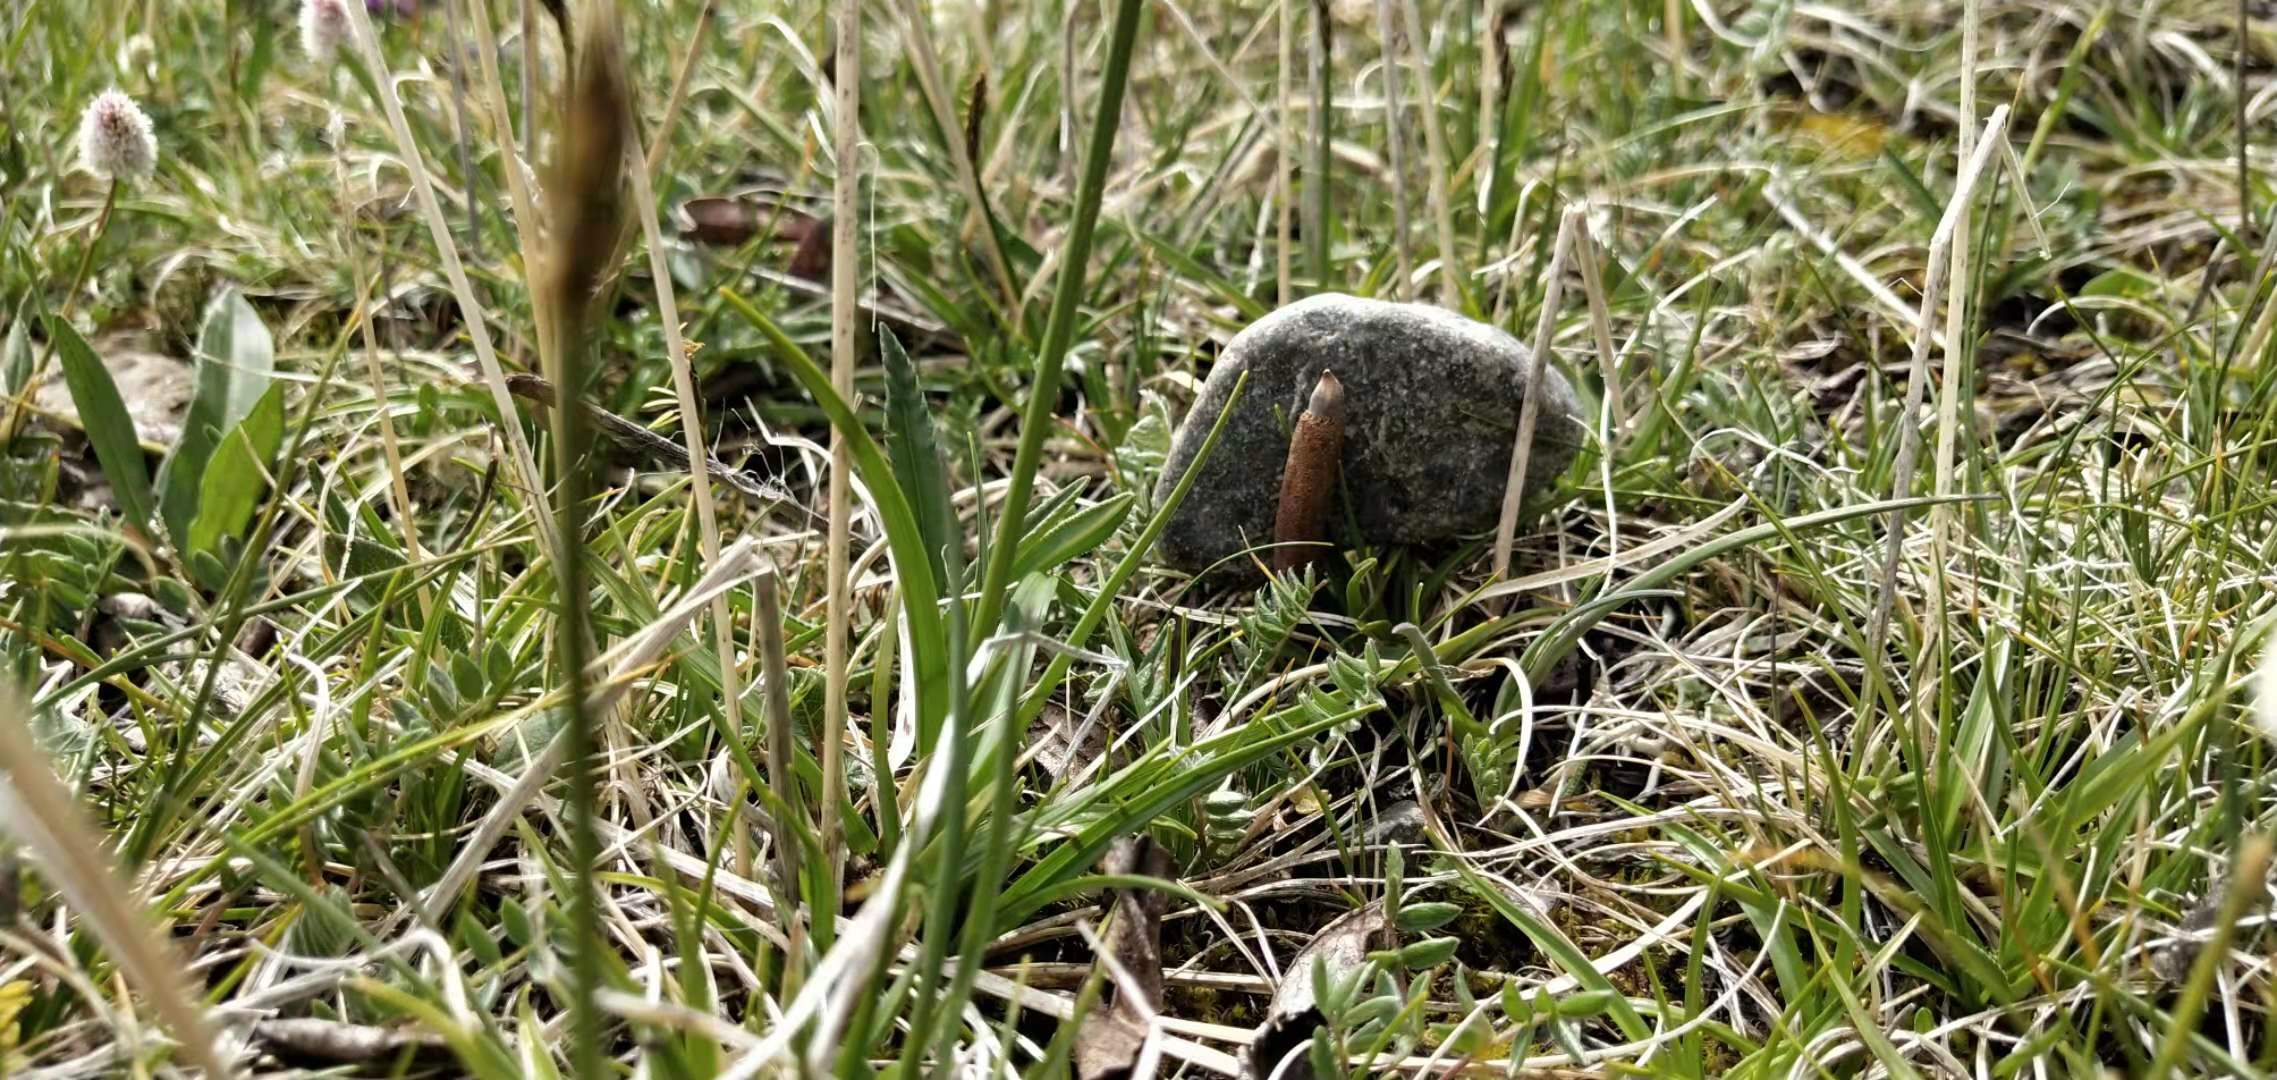cpf: (1272, 361, 1353, 586)
